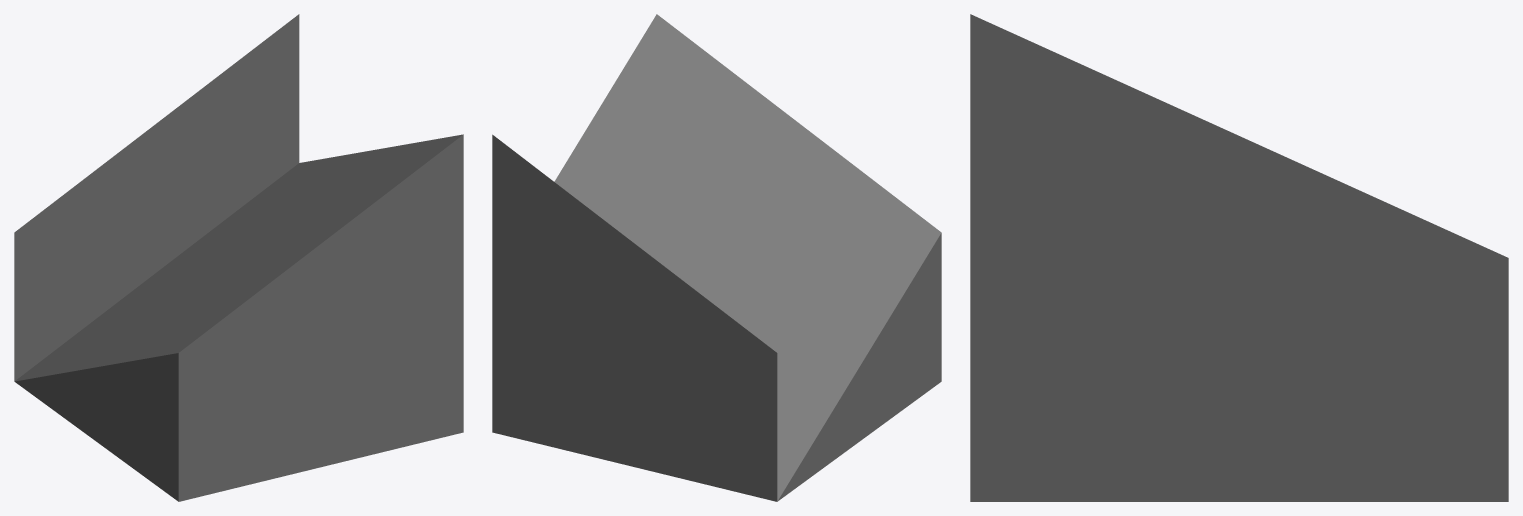
Rendered from Stone_Corner.glb.
3 renders of one model, left to right at view 1: azimuth 30°, elevation 25°; view 2: azimuth 150°, elevation 25°; view 3: azimuth 270°, elevation 25°, orthographic. The views are drawn at different scales.
Parts seen in each view (by area): view 1: Stone_Corner_body; view 2: Stone_Corner_body; view 3: Stone_Corner_body.
Part boxes in pixels (box(x1,y1,x2,y2)): Stone_Corner_body: box(14, 14, 463, 501); Stone_Corner_body: box(492, 14, 941, 501); Stone_Corner_body: box(970, 14, 1508, 501).
Bounding box in the file's own units: 1 × 1 × 1.
1 material, 1 textured.
